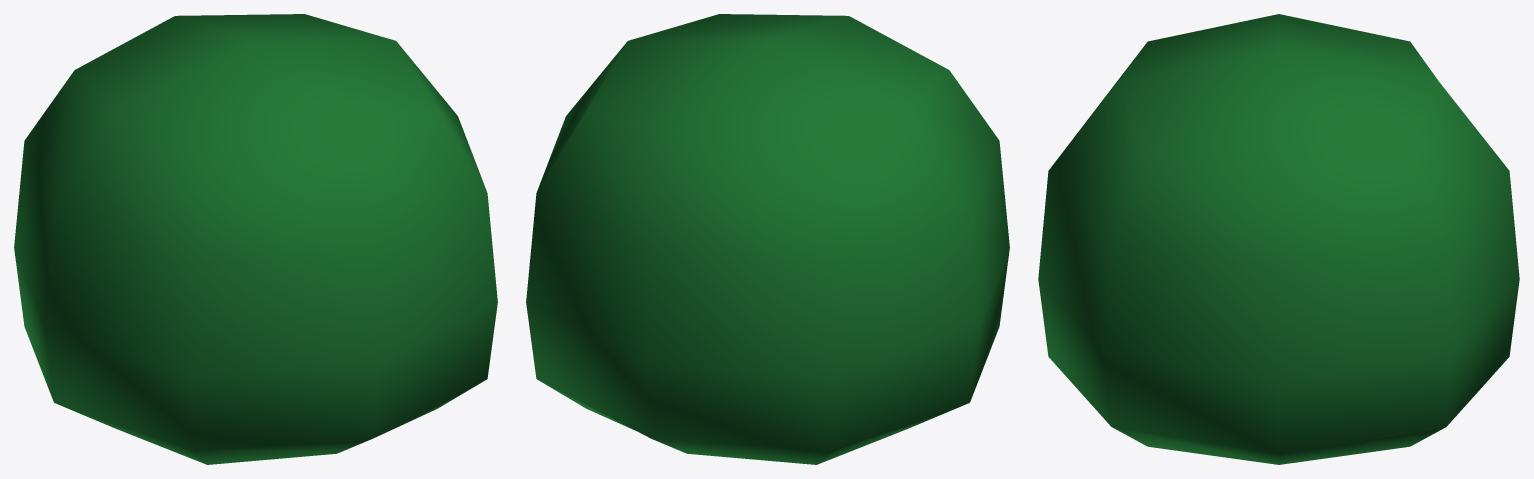
File: BUISSON.glb
3 renders of one model, left to right at view 1: azimuth 30°, elevation 25°; view 2: azimuth 150°, elevation 25°; view 3: azimuth 270°, elevation 25°, orthographic.
Parts seen in each view (by area): view 1: BUISSON; view 2: BUISSON; view 3: BUISSON.
Boxes of the visible parts, bbox=[...] form: BUISSON: bbox=[14, 14, 497, 464]; BUISSON: bbox=[526, 14, 1009, 464]; BUISSON: bbox=[1038, 14, 1519, 464].
Size of the model in its own units: 0.5023 by 0.4154 by 0.5023.
Materials: 1 (1 with a texture image).
